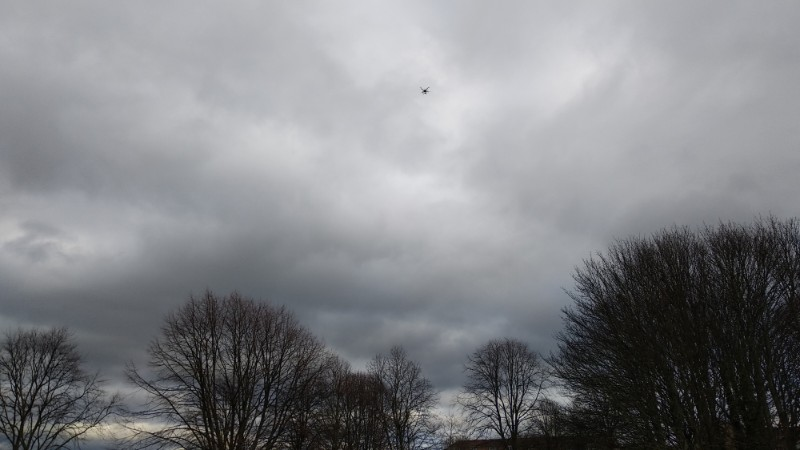drone: (420, 85, 431, 96)
